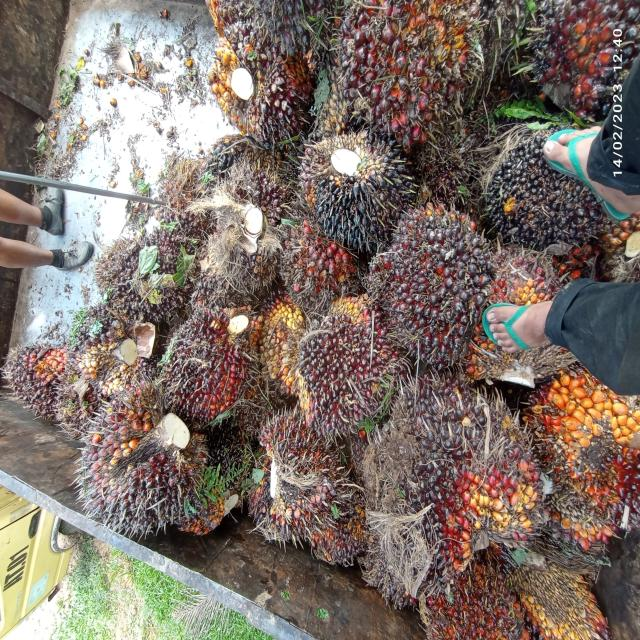fraksi 00: (409, 366, 546, 575), (61, 364, 202, 544), (478, 114, 626, 285), (236, 399, 340, 558), (294, 119, 411, 247), (204, 158, 302, 306), (92, 224, 184, 342)
fraksi 1: (332, 0, 490, 154), (367, 192, 492, 368), (290, 286, 409, 448), (148, 302, 264, 440), (0, 327, 74, 428)
fraksi 3: (282, 217, 358, 308)
fraksi 4: (544, 354, 631, 483)
